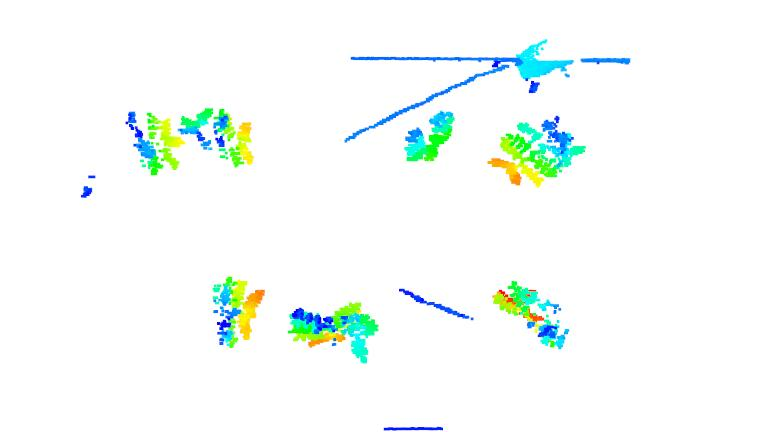chickpea: (487, 113, 587, 189), (490, 279, 570, 352), (290, 302, 378, 364), (181, 104, 256, 171), (210, 275, 268, 350), (125, 110, 185, 178), (401, 108, 457, 163)
